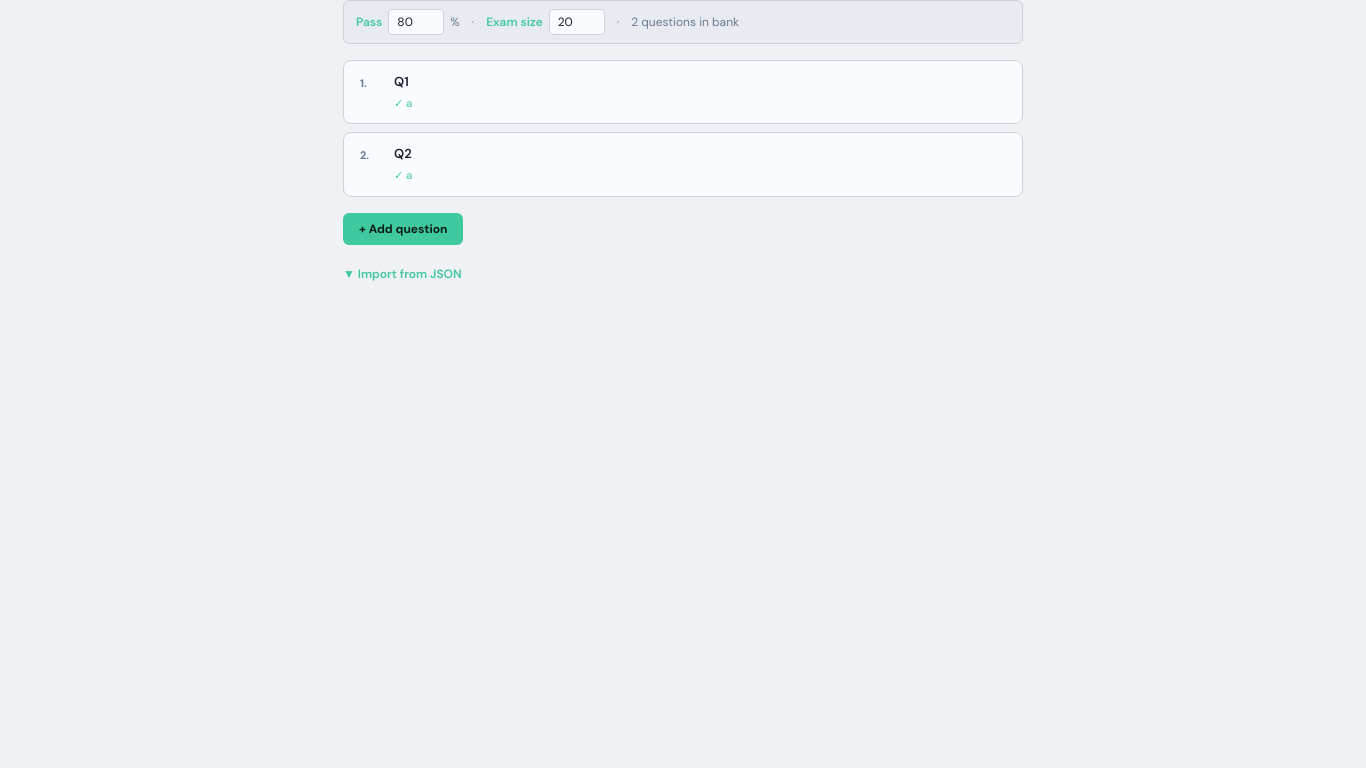
Scenario: AssessmentEditor › clicking a question opens the inspector
Step 1. Click the button "1. Q1 ✓ a" → {"x": 362, "y": 83}, box [343, 60, 1023, 124]
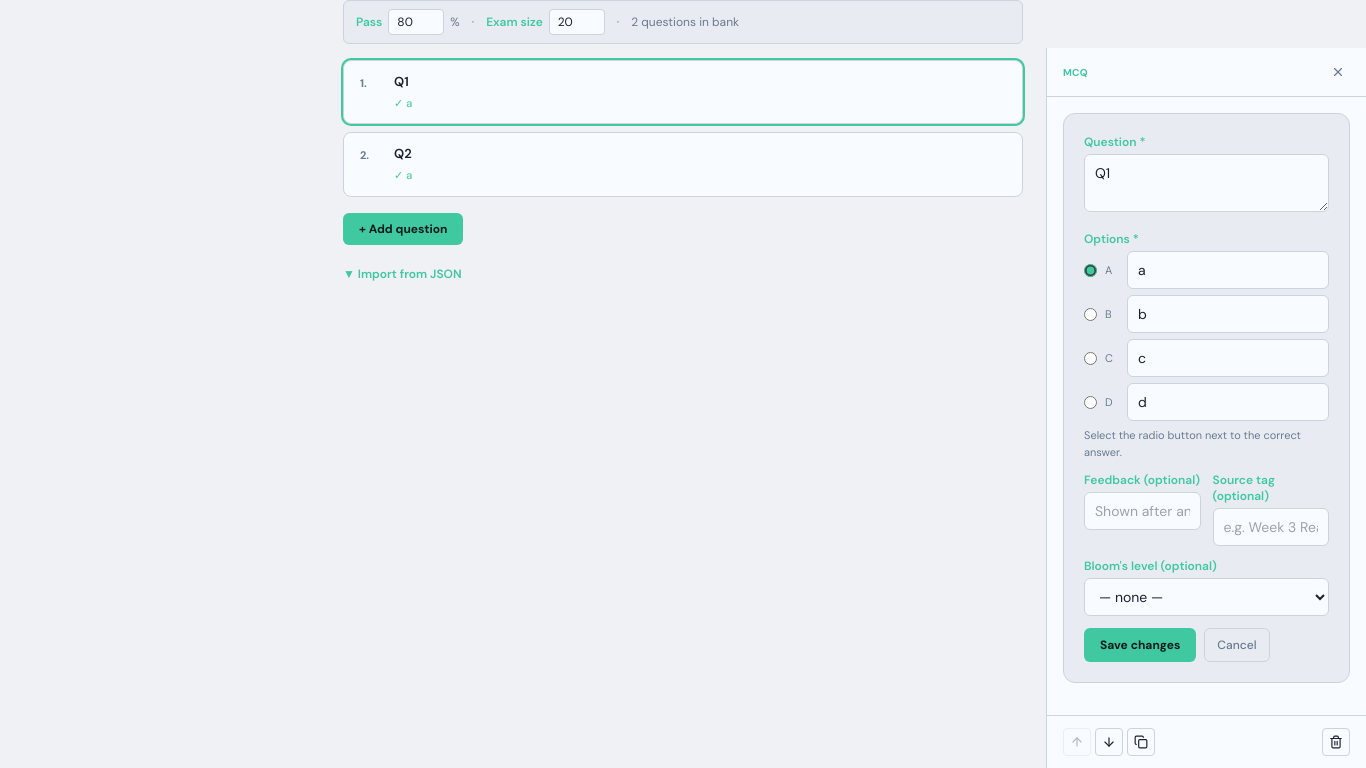
Now the button named "close inspector" is shown, box [1326, 60, 1350, 84]
